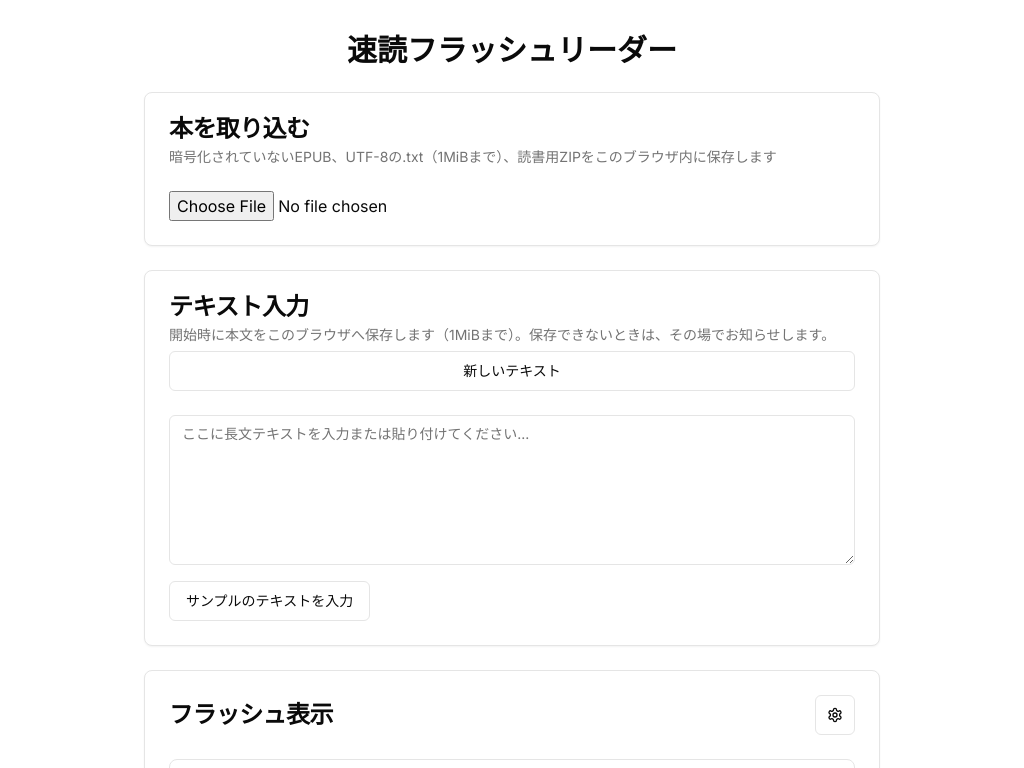
FlashReader › reaches 100% only after the final chunk has finished displaying
This screenshot has width=1024, height=768.
Later steps or results of the test are not shown.
Step 1. Type "あいうえおか" into the text box → (512, 490), box [169,415,855,565]
(page scrolled)
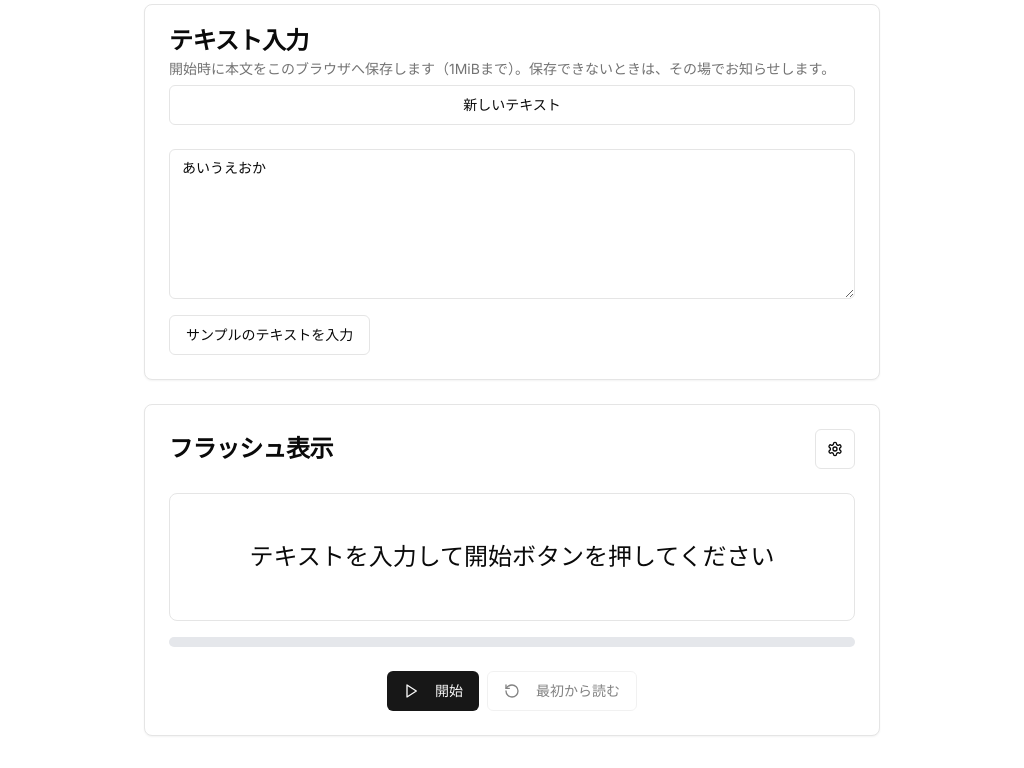
Step 2. Click the button "開始" → click(433, 691), box [387,671,479,711]
Wait 1200 ms
(page scrolled)
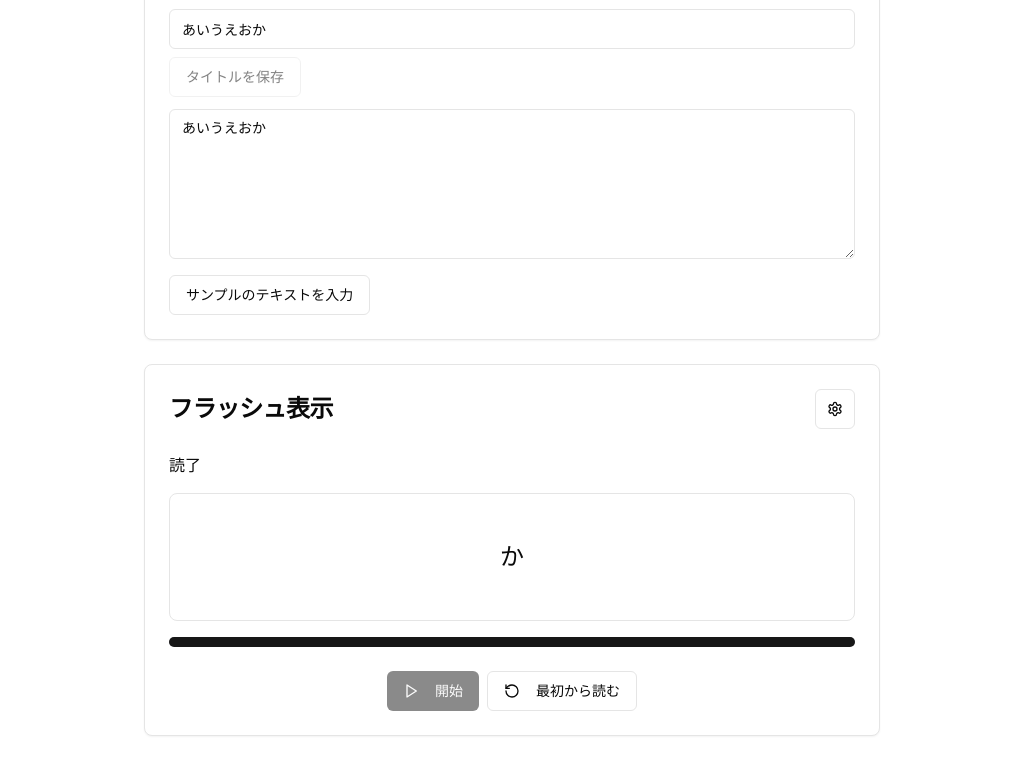
expect the text "か" is shown: met, box [500,542,524,571]
